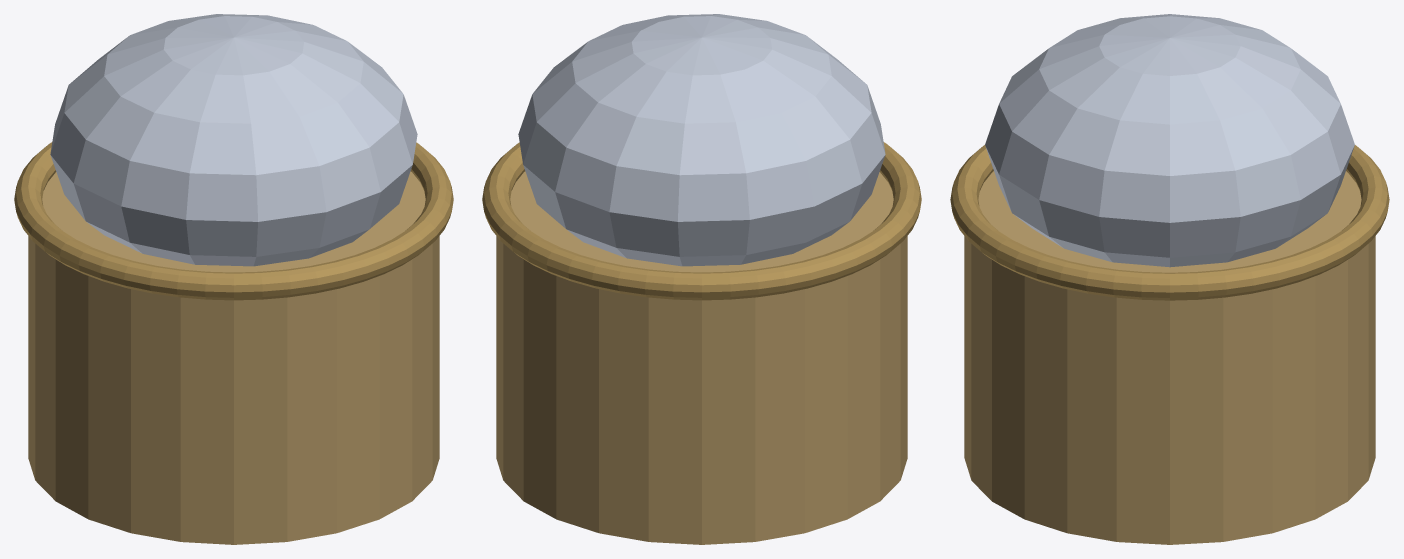
Rendered from laundry-basket.glb.
3 views of the same model, side by side, from view 1: azimuth 30°, elevation 25°; view 2: azimuth 150°, elevation 25°; view 3: azimuth 270°, elevation 25° (orthographic).
Visible parts, largest first — view 1: LaundryBasket_Body, LaundryBasket_Clothes, LaundryBasket_Rim; view 2: LaundryBasket_Body, LaundryBasket_Clothes, LaundryBasket_Rim; view 3: LaundryBasket_Body, LaundryBasket_Clothes, LaundryBasket_Rim.
Part boxes in pixels (x1,y1,x2,y2): LaundryBasket_Body: (28, 171, 439, 544); LaundryBasket_Clothes: (50, 14, 417, 266); LaundryBasket_Rim: (14, 142, 453, 300); LaundryBasket_Body: (496, 171, 907, 544); LaundryBasket_Clothes: (518, 14, 885, 266); LaundryBasket_Rim: (482, 142, 921, 300); LaundryBasket_Body: (964, 171, 1375, 544); LaundryBasket_Clothes: (985, 14, 1354, 267); LaundryBasket_Rim: (950, 145, 1389, 300).
Size of the model in its own units: 0.47 by 0.496 by 0.47.
